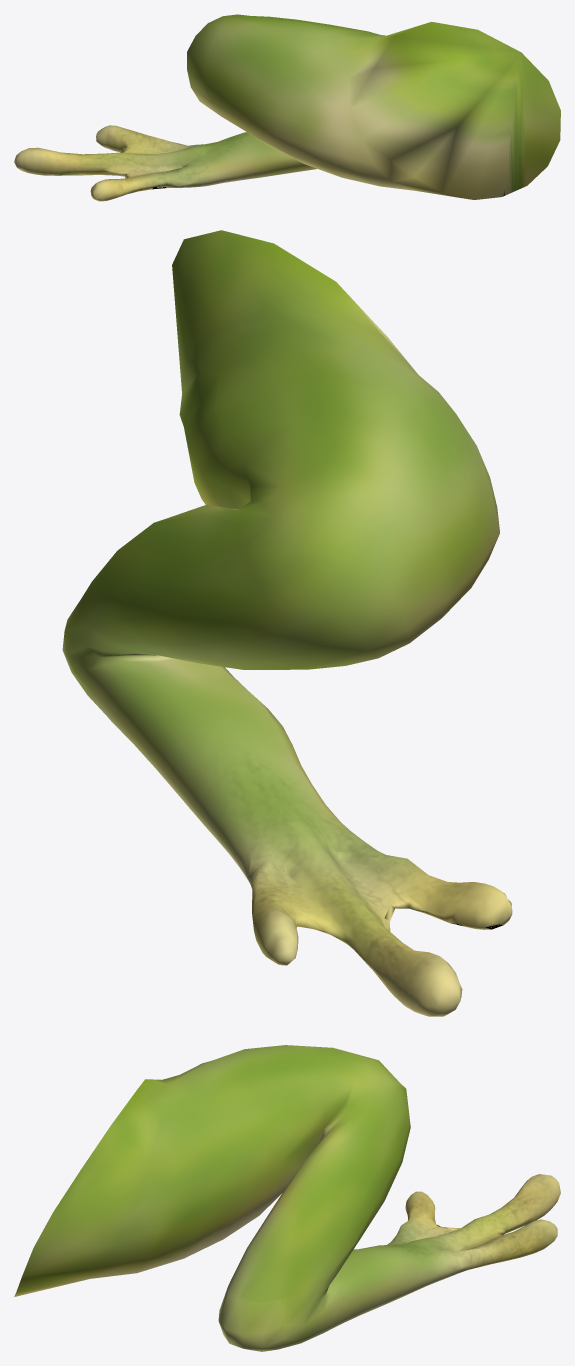
Rendered from frog_leg.fbx.
3 renders of one model, top to bottom at view 1: azimuth 30°, elevation 25°; view 2: azimuth 150°, elevation 25°; view 3: azimuth 270°, elevation 25°, orthographic. The views are drawn at different scales.
Parts seen in each view (by area): view 1: frog.001; view 2: frog.001; view 3: frog.001.
Part boxes in pixels (x1,y1,x2,y2): frog.001: (14, 14, 560, 201); frog.001: (62, 230, 512, 1016); frog.001: (14, 1045, 560, 1351).
Size of the model in its own units: 23.46 by 13.89 by 25.51.
Materials: 1 (1 with a texture image).
